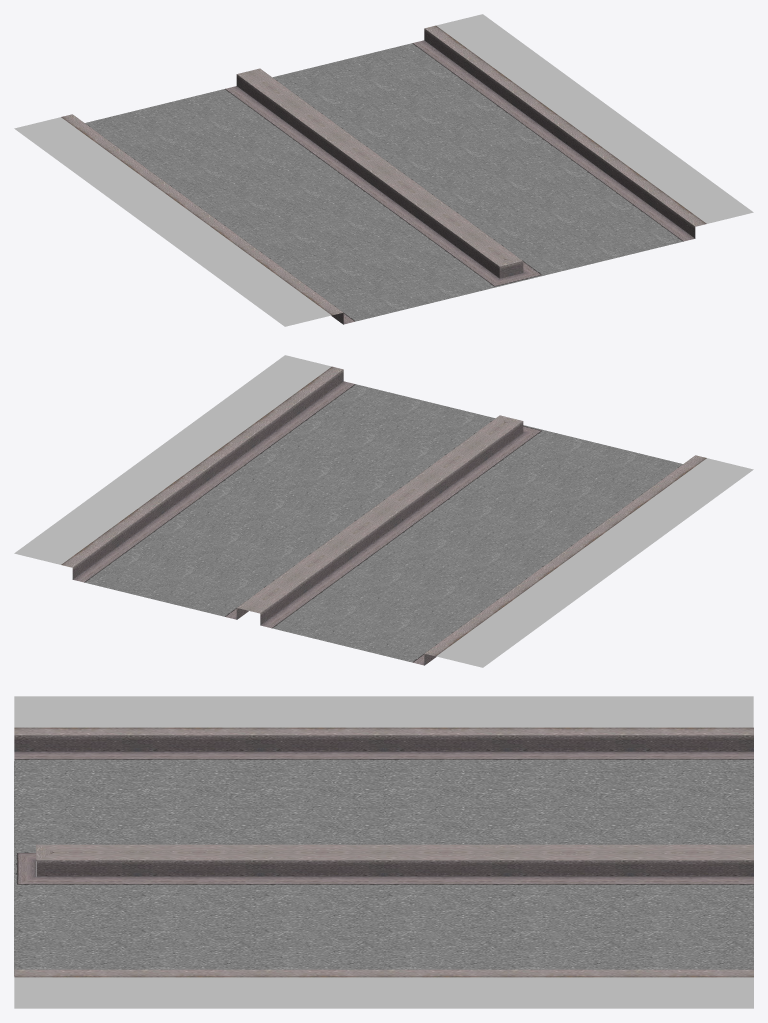
Rendered from roada3.dae.
3 views of the same model, one above another, from view 1: azimuth 30°, elevation 25°; view 2: azimuth 150°, elevation 25°; view 3: azimuth 270°, elevation 25° (orthographic). The views are drawn at different scales.
Parts seen in each view (by area): view 1: S_Object_001_6, S_Object_001_7, S_Object_001_2, S_Object_001_1, S_Object_001, S_Object_001_3, S_Object_001_4, S_Object_001_5; view 2: S_Object_001_6, S_Object_001_7, S_Object_001_2, S_Object_001_1, S_Object_001, S_Object_001_3, S_Object_001_4, S_Object_001_5; view 3: S_Object_001_6, S_Object_001_7, S_Object_001_2, S_Object_001_1, S_Object_001, S_Object_001_3, S_Object_001_5.
Part boxes in pixels (box(x1,y1,x2,y2)): S_Object_001_6: box(87, 44, 680, 320); S_Object_001_7: box(14, 14, 753, 326); S_Object_001_2: box(236, 28, 695, 324); S_Object_001_1: box(225, 40, 694, 324); S_Object_001: box(61, 25, 706, 315); S_Object_001_3: box(237, 68, 522, 266); S_Object_001_4: box(223, 43, 683, 287); S_Object_001_5: box(85, 77, 544, 321); S_Object_001_6: box(87, 385, 680, 661); S_Object_001_7: box(14, 355, 753, 667); S_Object_001_2: box(72, 369, 523, 665); S_Object_001_1: box(73, 381, 541, 665); S_Object_001: box(61, 366, 706, 656); S_Object_001_3: box(237, 415, 522, 613); S_Object_001_4: box(84, 384, 544, 628); S_Object_001_5: box(223, 418, 682, 662); S_Object_001_6: box(14, 761, 753, 975); S_Object_001_7: box(14, 696, 753, 1008); S_Object_001_2: box(14, 735, 753, 876); S_Object_001_1: box(14, 751, 753, 884); S_Object_001: box(14, 727, 753, 977); S_Object_001_3: box(36, 844, 753, 860); S_Object_001_5: box(14, 759, 753, 885).
Size of the model in its own units: 2 by 0.05 by 2.
